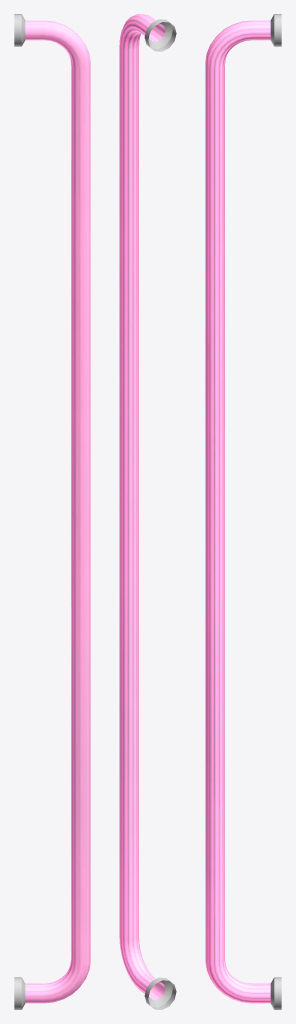
Rendered from KB3D_CBP_Light_E.fbx.
3 views of the same model, side by side, from view 1: azimuth 90°, elevation 25°; view 2: azimuth 210°, elevation 25°; view 3: azimuth 270°, elevation 25° (orthographic).
Parts seen in each view (by area): view 1: KB3D_CBP_Light_E_Main; view 2: KB3D_CBP_Light_E_Main; view 3: KB3D_CBP_Light_E_Main.
Boxes of the visible parts, left/top/right/bottom form: KB3D_CBP_Light_E_Main: left=14, top=14, right=90, bottom=1009; KB3D_CBP_Light_E_Main: left=119, top=14, right=176, bottom=1009; KB3D_CBP_Light_E_Main: left=205, top=14, right=281, bottom=1009.
Size of the model in its own units: 7.81 by 261 by 18.22.
